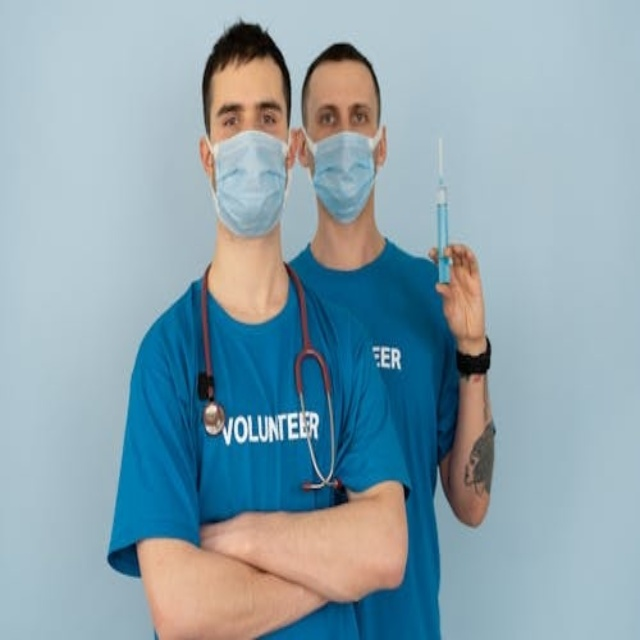Mascara: (207, 128, 291, 236), (306, 125, 380, 222)
Sin_gafas: (319, 112, 337, 126), (351, 111, 369, 125), (222, 116, 238, 128), (262, 114, 278, 125)
Sin_guantes: (427, 243, 486, 347)
